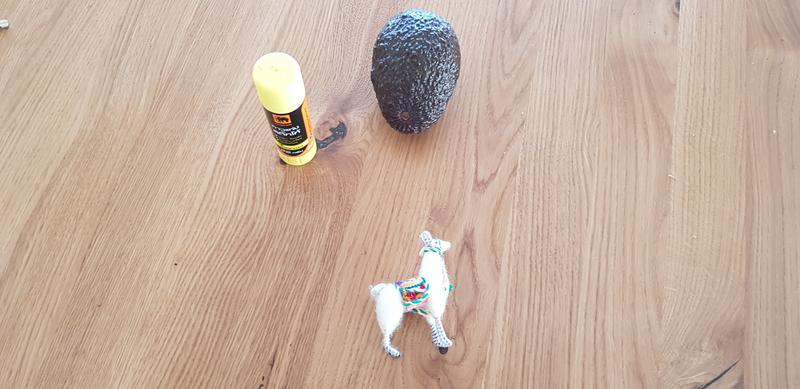Avocado: (364, 9, 462, 146)
Glue-Stick: (245, 49, 325, 171)
Horse-Toy: (359, 227, 473, 376)
